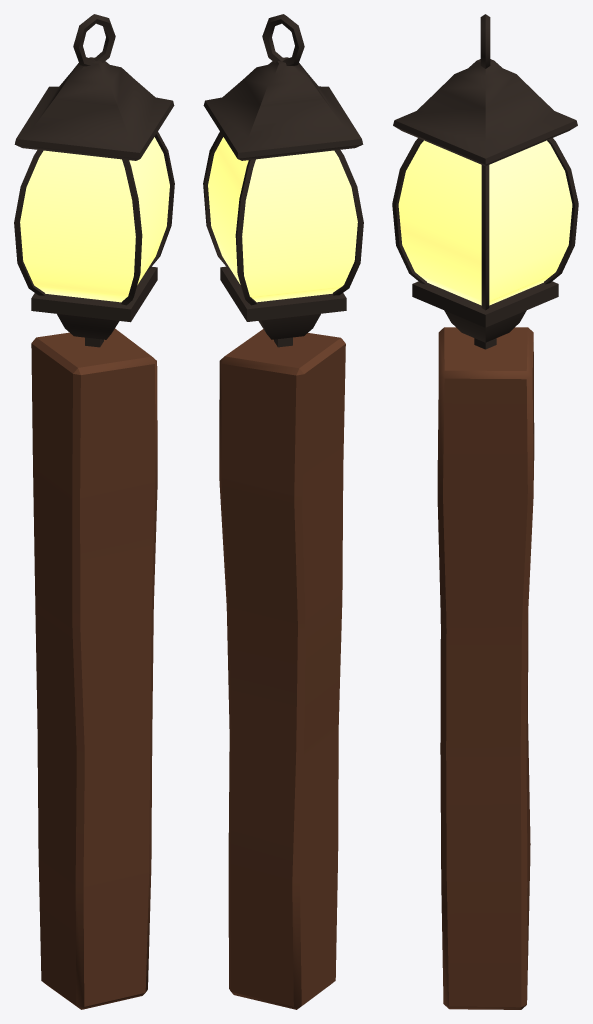
File: post-lantern.glb
3 renders of one model, left to right at view 1: azimuth 30°, elevation 25°; view 2: azimuth 150°, elevation 25°; view 3: azimuth 270°, elevation 25°, orthographic.
Parts seen in each view (by area): view 1: post, lantern_glass, lantern_iron; view 2: post, lantern_glass, lantern_iron; view 3: post, lantern_glass, lantern_iron.
Part boxes in pixels (bbox=[...]): post: bbox=[31, 328, 157, 1009]; lantern_glass: bbox=[20, 137, 169, 302]; lantern_iron: bbox=[14, 14, 174, 347]; post: bbox=[219, 329, 345, 1009]; lantern_glass: bbox=[208, 137, 357, 302]; lantern_iron: bbox=[203, 14, 363, 347]; post: bbox=[437, 327, 534, 1009]; lantern_glass: bbox=[398, 140, 572, 305]; lantern_iron: bbox=[392, 14, 578, 349].
Size of the model in its own units: 0.259 by 1.5 by 0.259.
